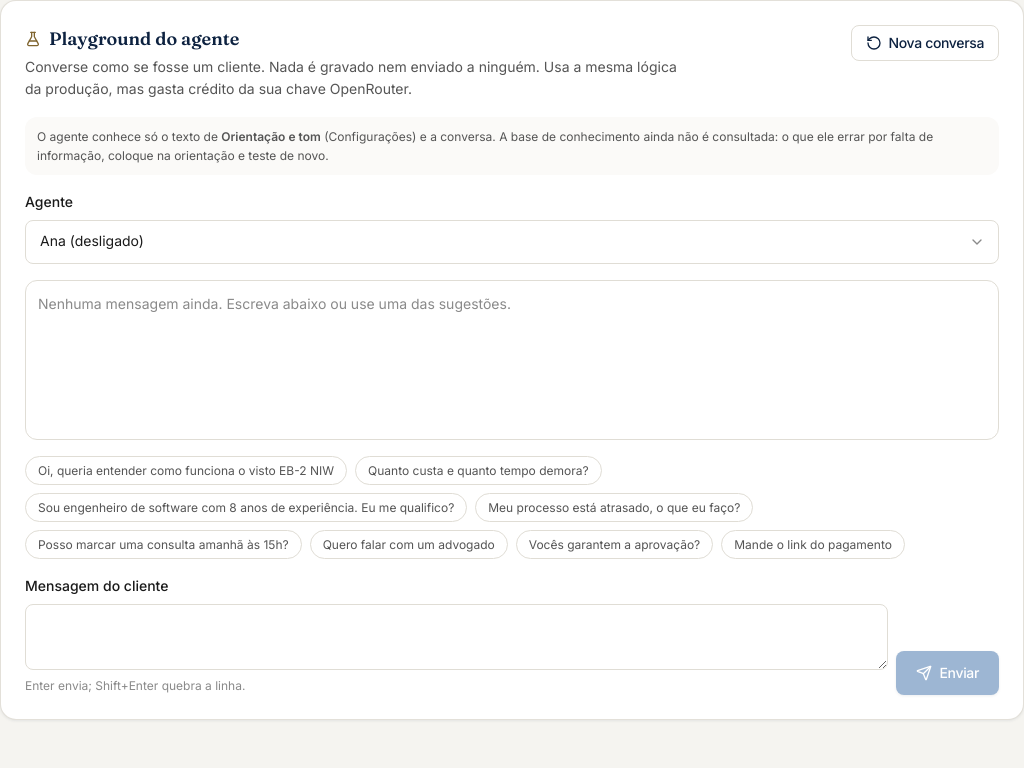
it: PlaygroundAgente › encaminhamento à equipe aparece marcado e sem custo
Type "Quero falar com um advogado" into the text box labelled "Mensagem do cliente" at (456, 637), box [25,604,888,670]
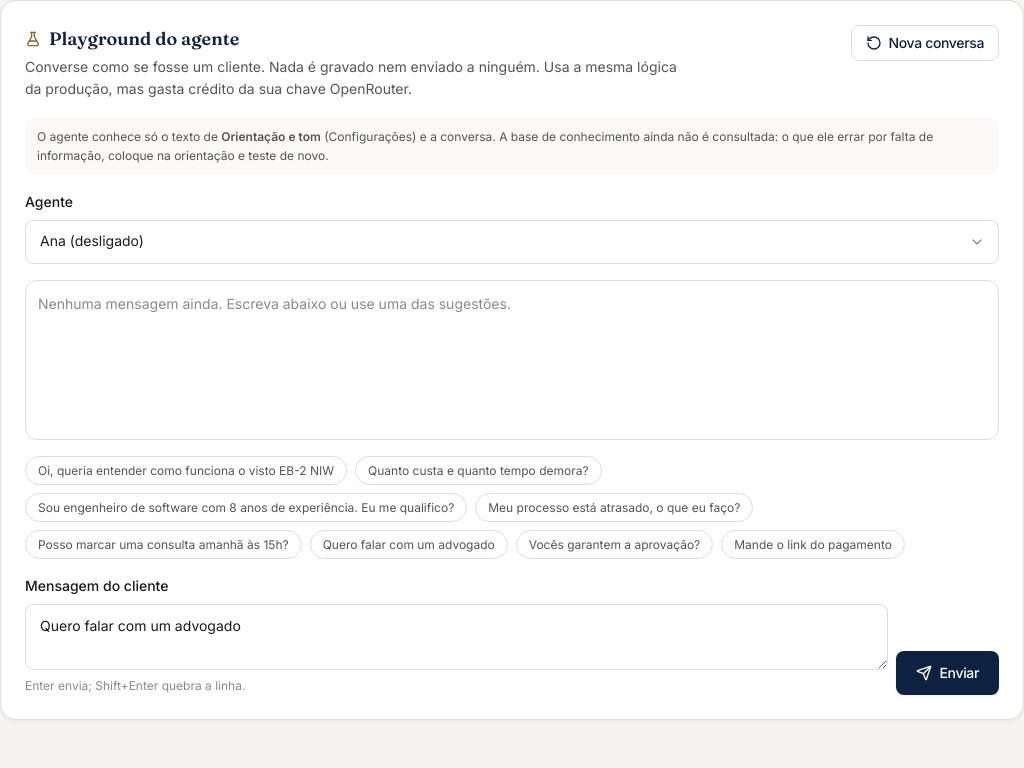
Click the button "Enviar" at (947, 674), box [896,652,999,696]
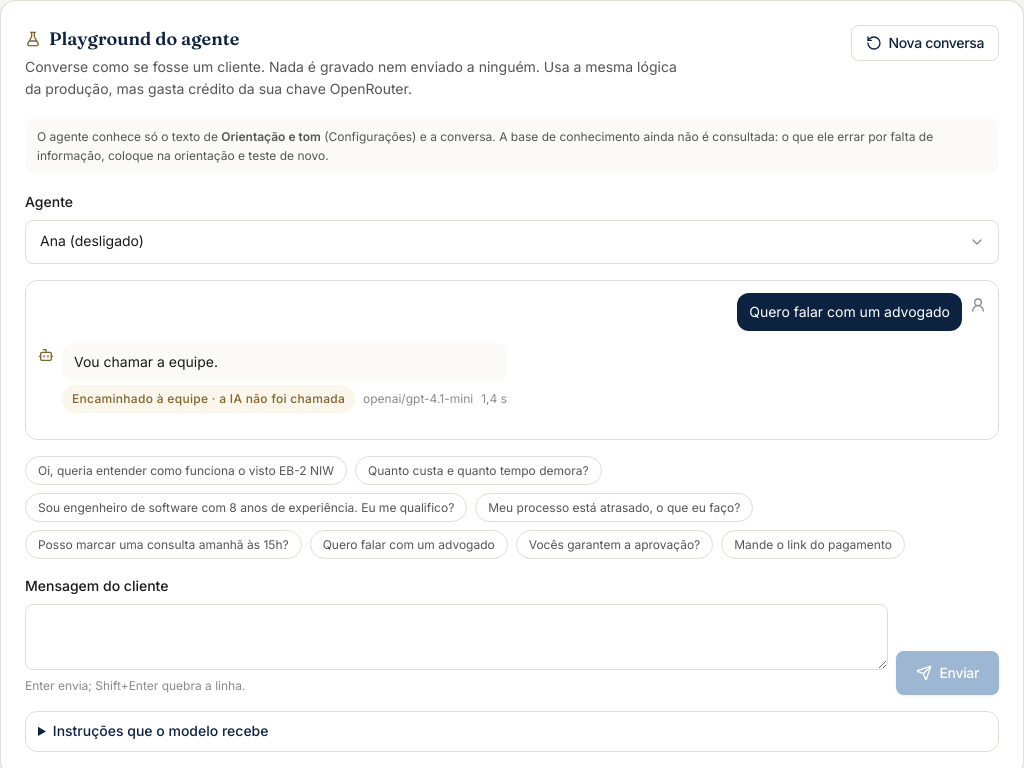
Check: the text "Vou chamar a equipe." is shown, box [62,343,507,381]
Check: the text "Encaminhado à equipe · a IA não foi chamada" is shown, box [62,385,355,412]
